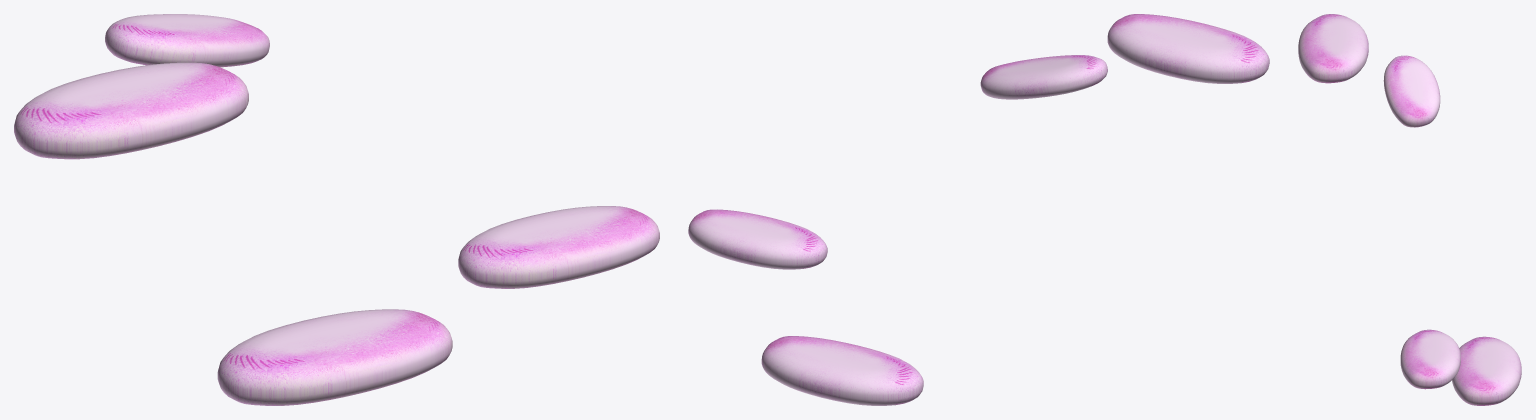
File: Cloud_Maru_Group.obj
The picture shows the model from 3 angles, left to right: view 1: azimuth 30°, elevation 25°; view 2: azimuth 150°, elevation 25°; view 3: azimuth 270°, elevation 25°; orthographic projection. The views are drawn at different scales.
Parts seen in each view (by area): view 1: Cloud_Maru_004, Cloud_Maru_003, Cloud_Maru_01, Cloud_Maru_002; view 2: Cloud_Maru_004, Cloud_Maru_003, Cloud_Maru_01, Cloud_Maru_002; view 3: Cloud_Maru_004, Cloud_Maru_003, Cloud_Maru_002, Cloud_Maru_01.
Part boxes in pixels (box(x1,y1,x2,y2)): Cloud_Maru_004: box(14, 62, 248, 159); Cloud_Maru_003: box(217, 309, 452, 405); Cloud_Maru_01: box(458, 206, 659, 288); Cloud_Maru_002: box(105, 14, 269, 67); Cloud_Maru_004: box(1107, 14, 1269, 83); Cloud_Maru_003: box(761, 336, 923, 405); Cloud_Maru_01: box(688, 209, 827, 269); Cloud_Maru_002: box(980, 55, 1107, 99); Cloud_Maru_004: box(1298, 14, 1368, 83); Cloud_Maru_003: box(1452, 336, 1521, 405); Cloud_Maru_002: box(1383, 55, 1440, 127); Cloud_Maru_01: box(1400, 329, 1460, 389).
Bounding box in the file's own units: 2.57 × 1.63 × 1.29.
Materials: 1 (1 with a texture image).
